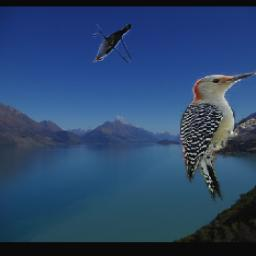Cuckoo: (93, 24, 132, 63)
Woodpecker: (181, 69, 256, 204)
